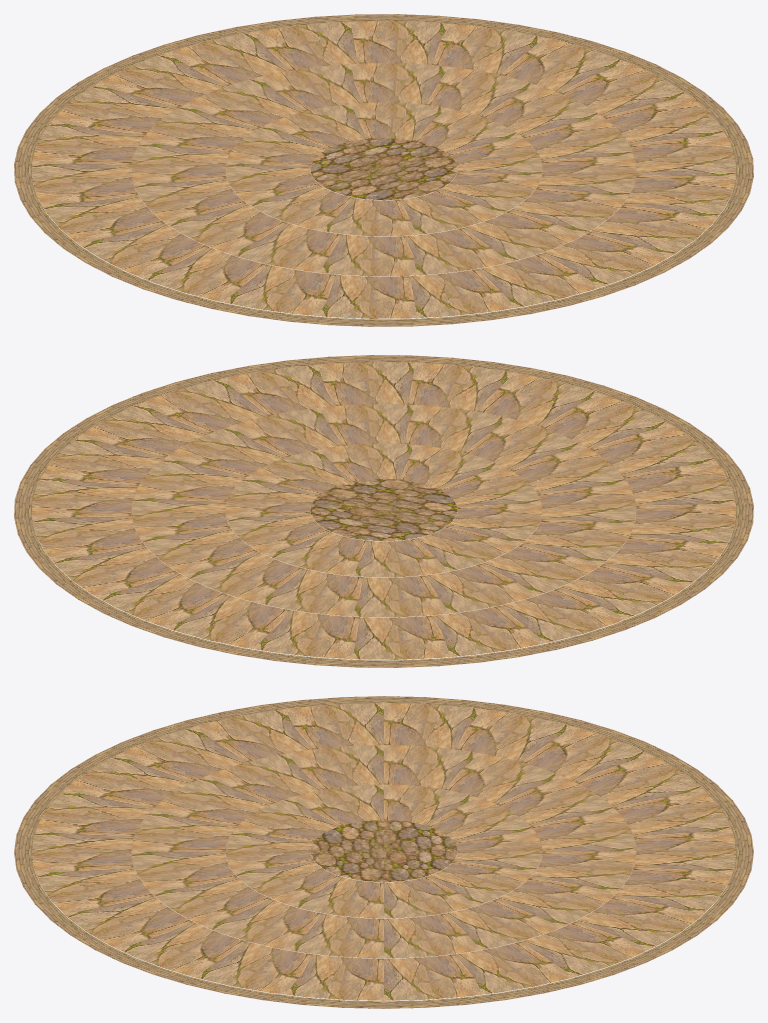
File: plaza.glb
3 renders of one model, top to bottom at view 1: azimuth 30°, elevation 25°; view 2: azimuth 150°, elevation 25°; view 3: azimuth 270°, elevation 25°, orthographic.
Parts seen in each view (by area): view 1: ring3, ring2, ring1, rim, plaza-centre; view 2: ring3, ring2, ring1, rim, plaza-centre; view 3: ring3, ring2, ring1, rim, plaza-centre.
Boxes of the visible parts, <box> form: ring3: <box>31,21,736,318</box>; ring2: <box>131,63,636,276</box>; ring1: <box>225,102,542,236</box>; rim: <box>14,14,753,326</box>; plaza-centre: <box>310,138,457,200</box>; ring3: <box>31,362,736,659</box>; ring2: <box>131,404,636,617</box>; ring1: <box>225,443,542,577</box>; rim: <box>14,355,753,667</box>; plaza-centre: <box>310,479,457,541</box>; ring3: <box>31,703,736,1000</box>; ring2: <box>131,745,636,958</box>; ring1: <box>225,784,542,918</box>; rim: <box>14,696,753,1008</box>; plaza-centre: <box>310,820,457,882</box>.
Bounding box in the file's own units: 12.6 × 0.025 × 12.6.
Materials: 3 (3 with a texture image).
